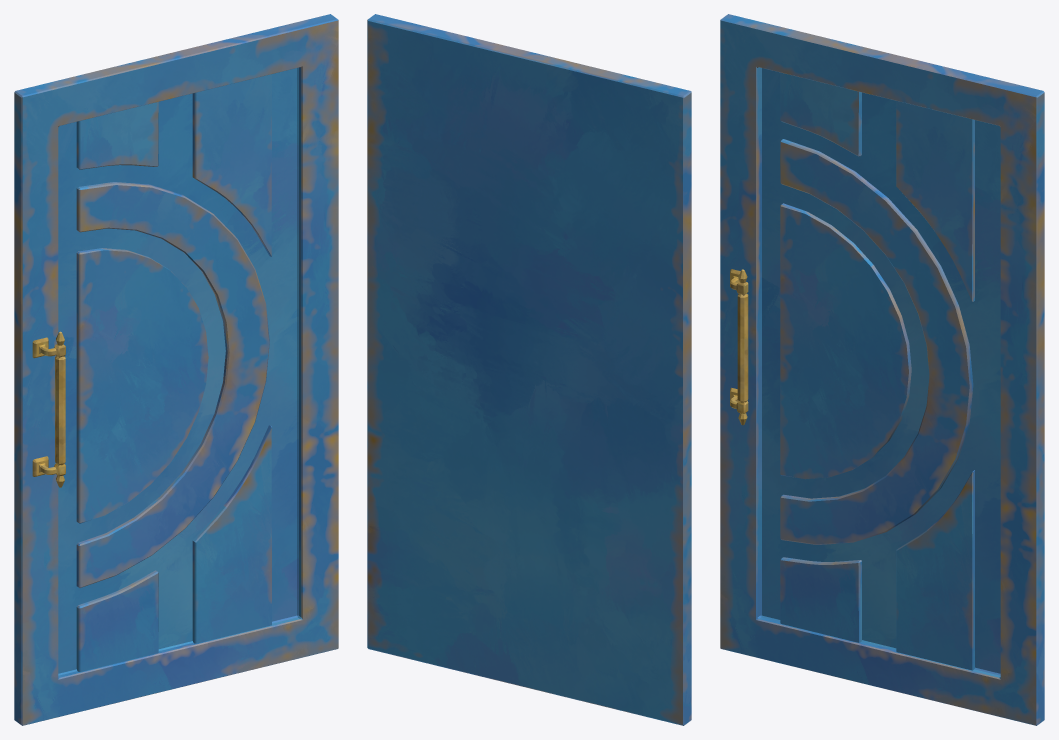
File: Door 1.fbx
3 views of the same model, side by side, from view 1: azimuth 30°, elevation 25°; view 2: azimuth 150°, elevation 25°; view 3: azimuth 330°, elevation 25° (orthographic).
Parts seen in each view (by area): view 1: Door 1; view 2: Door 1; view 3: Door 1.
Part boxes in pixels (x1=…): Door 1: x1=14, y1=14, x2=338, y2=725; Door 1: x1=367, y1=14, x2=691, y2=725; Door 1: x1=720, y1=14, x2=1044, y2=725.
Bounding box in the file's own units: 101 × 191 × 10.24.
